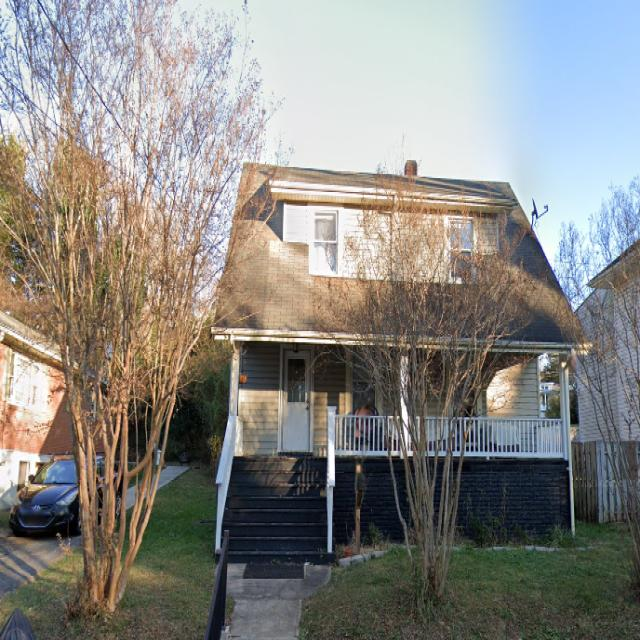House: (212, 159, 594, 560), (0, 310, 116, 520), (571, 238, 640, 440)
